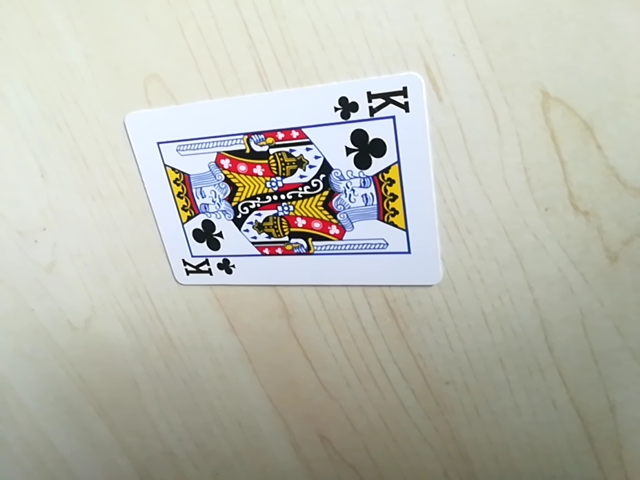mh k: (334, 85, 414, 121), (173, 253, 236, 284)
